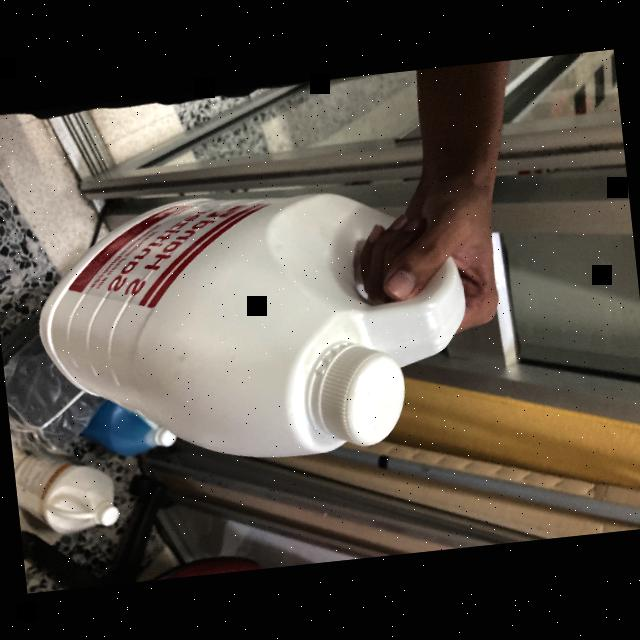chemical_plastic_gallon: (27, 166, 486, 482)
